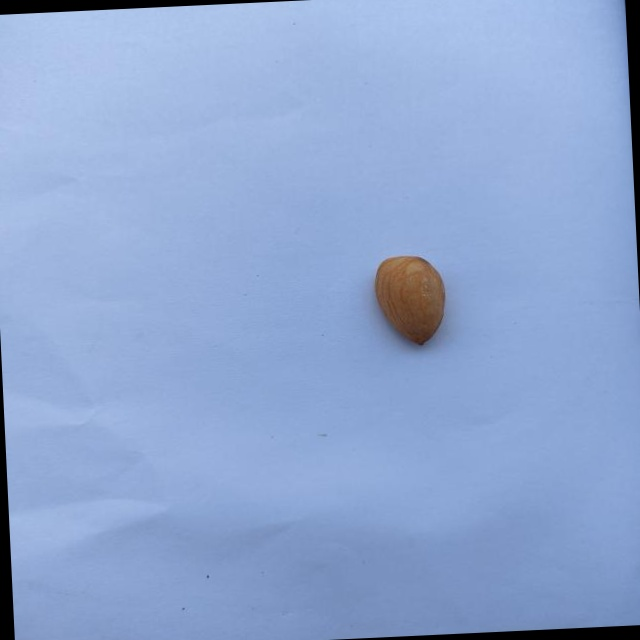grade2: (366, 251, 451, 351)
